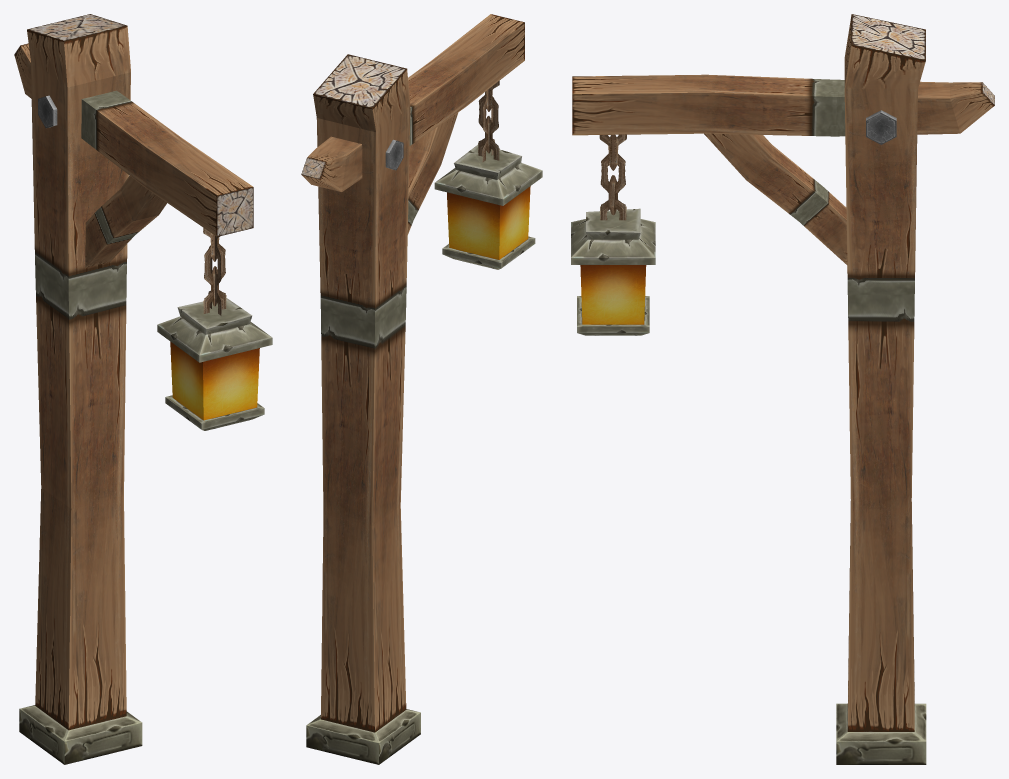
The model's file is LampPost.fbx.
3 renders of one model, left to right at view 1: azimuth 30°, elevation 25°; view 2: azimuth 150°, elevation 25°; view 3: azimuth 270°, elevation 25°, orthographic. The views are drawn at different scales.
Visible parts, largest first — view 1: polySurface6; view 2: polySurface6; view 3: polySurface6.
Part boxes in pixels (bbox=[...]): polySurface6: bbox=[14, 14, 272, 764]; polySurface6: bbox=[301, 14, 542, 764]; polySurface6: bbox=[571, 14, 994, 764].
Bounding box in the file's own units: 2.69 × 23.6 × 12.65.
